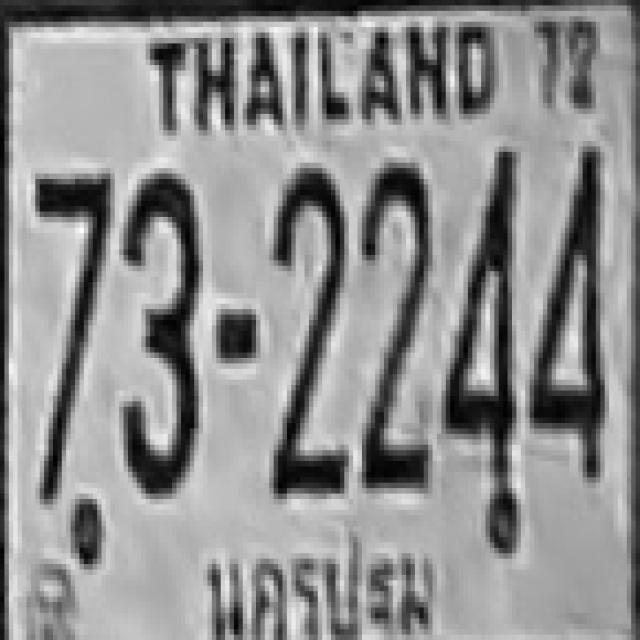2: (267, 263, 342, 491)
3: (119, 179, 199, 494), (119, 217, 199, 494)
4: (526, 141, 600, 466), (439, 144, 514, 447)
7: (31, 168, 110, 358)
NPT: (187, 527, 449, 640)
